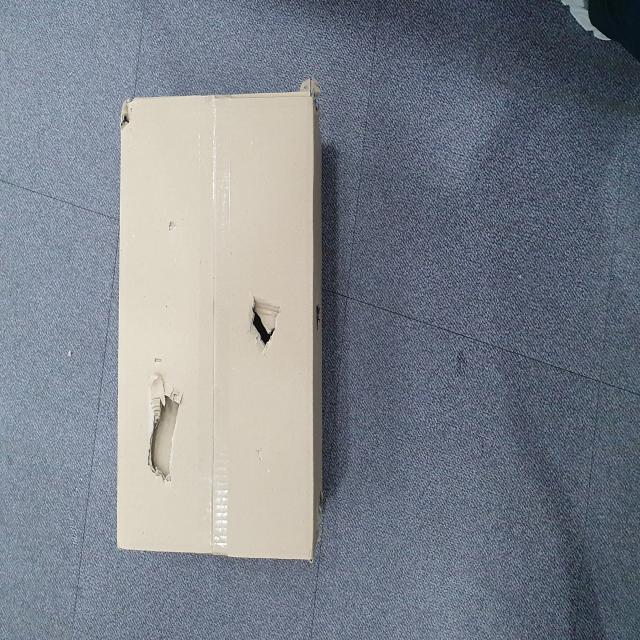hole: (144, 373, 184, 489), (247, 286, 283, 358)
